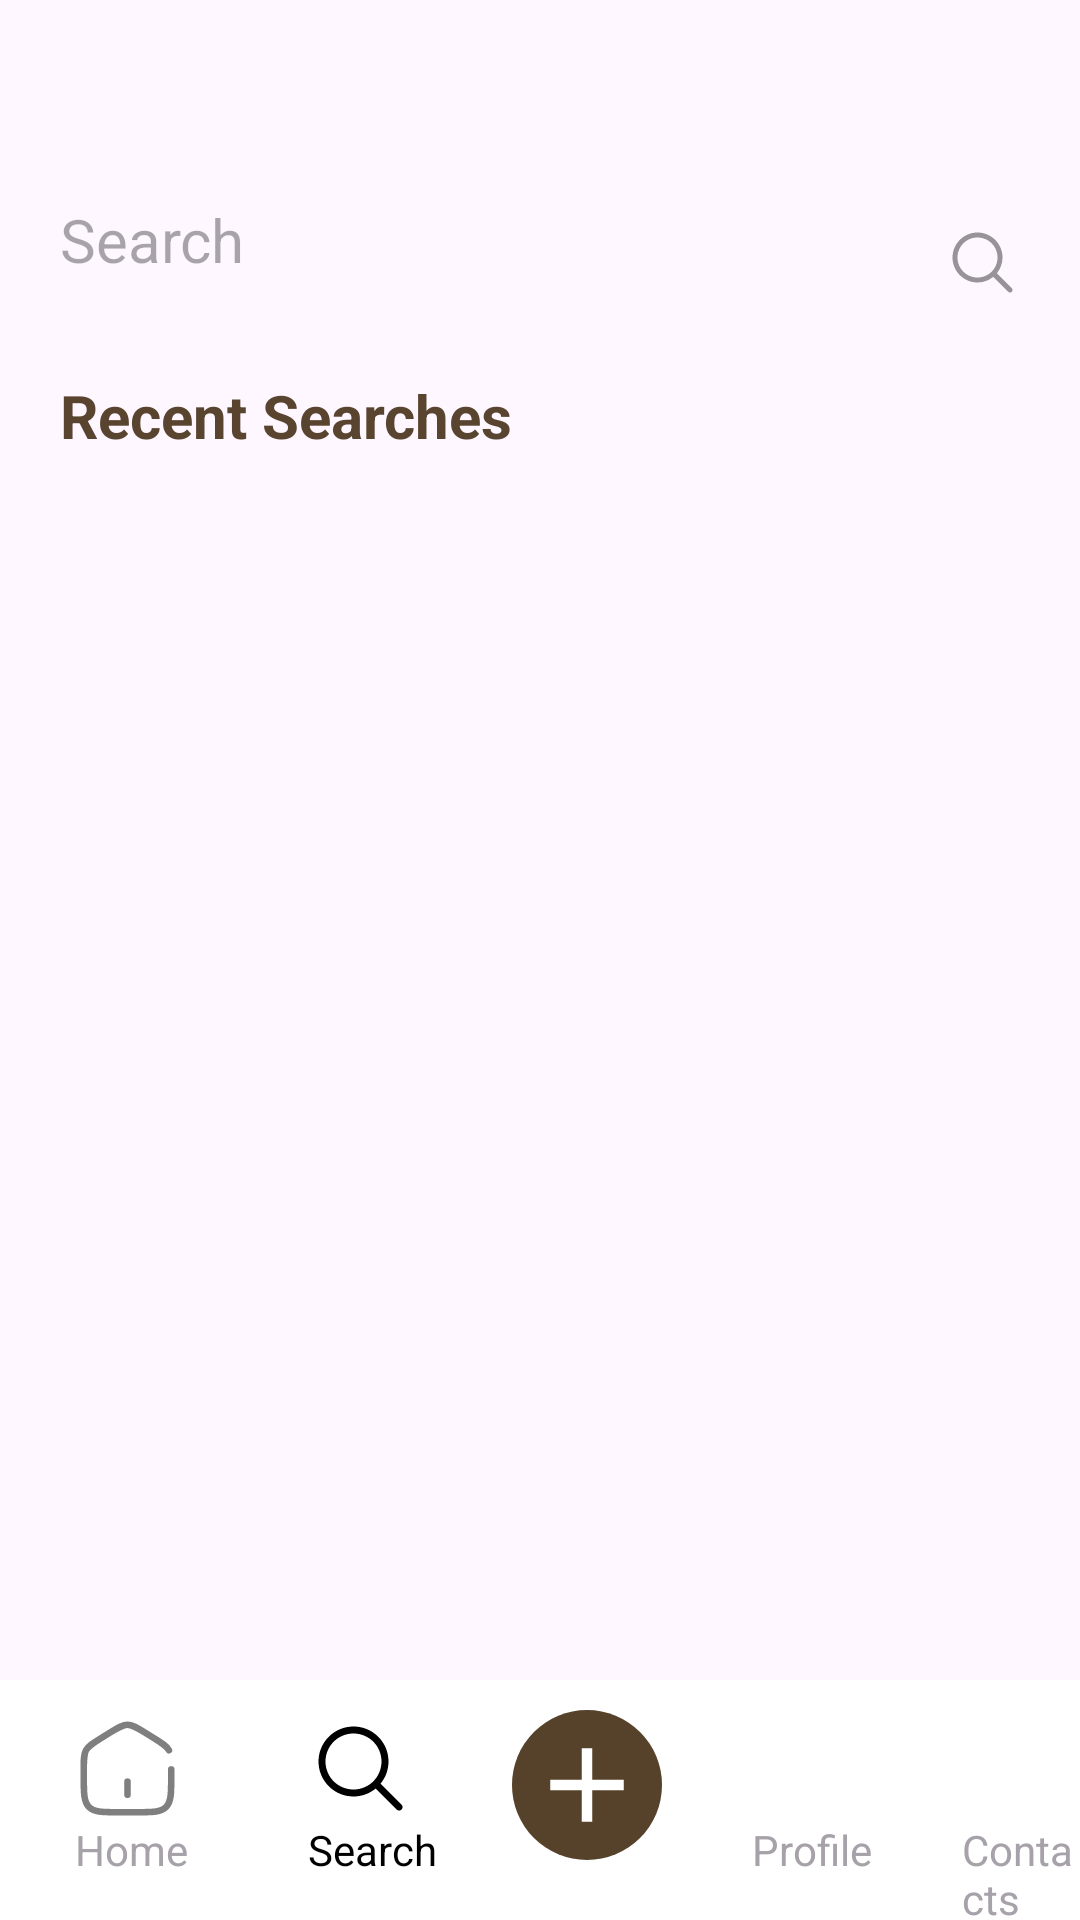

Screen size 1080x1920. Icon name, then its center in pixels as point (x, y):
add symbol: point (587, 1785)
